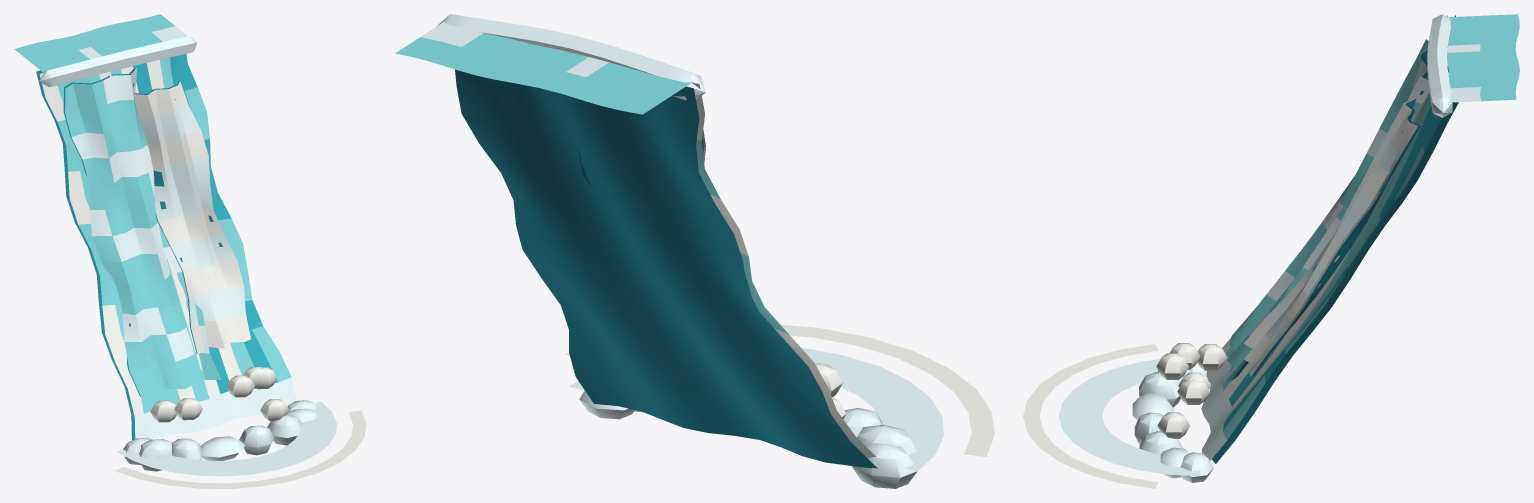
File: Cascada.fbx
3 renders of one model, left to right at view 1: azimuth 30°, elevation 25°; view 2: azimuth 150°, elevation 25°; view 3: azimuth 270°, elevation 25°, orthographic. The views are drawn at different scales.
Visible parts, largest first — view 1: Cascada; view 2: Cascada; view 3: Cascada.
Boxes of the visible parts, x1,y1,x2,y2 form: Cascada: [14, 14, 366, 488]; Cascada: [395, 14, 994, 488]; Cascada: [1023, 14, 1519, 488].
Size of the model in its own units: 12.56 by 15.59 by 18.18.
1 material, 1 textured.
